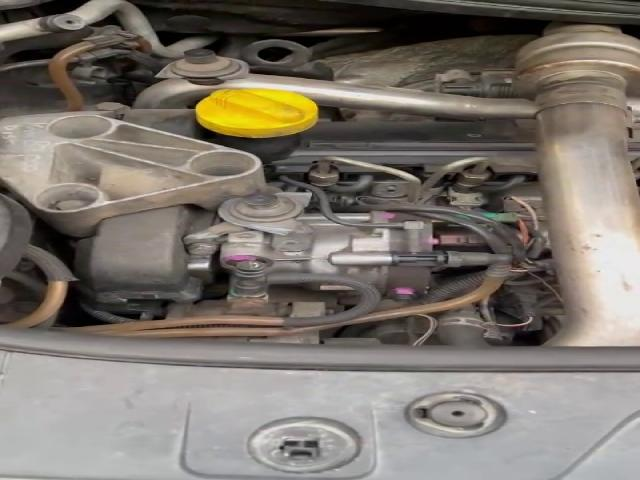high_pressure_pump: (218, 209, 460, 301)
